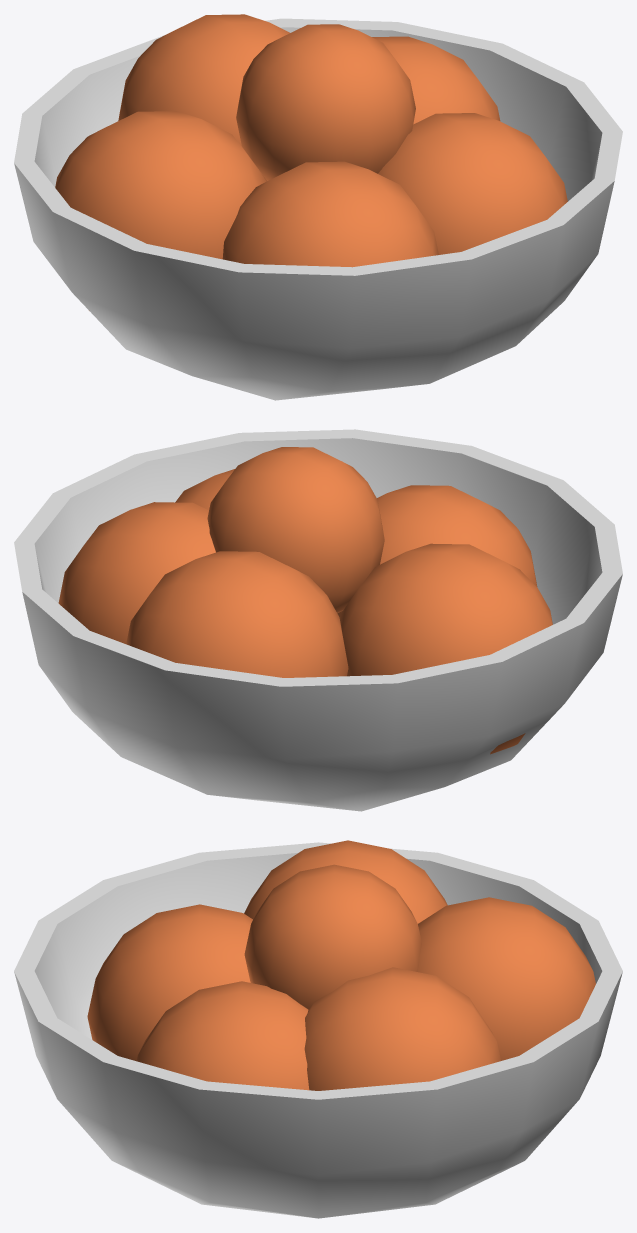
Rendered from Fruitbowl.fbx.
3 views of the same model, one above another, from view 1: azimuth 30°, elevation 25°; view 2: azimuth 150°, elevation 25°; view 3: azimuth 270°, elevation 25° (orthographic).
Parts seen in each view (by area): view 1: Fruitbowl; view 2: Fruitbowl; view 3: Fruitbowl.
Boxes of the visible parts, bbox=[...] form: Fruitbowl: bbox=[14, 14, 622, 400]; Fruitbowl: bbox=[14, 429, 622, 811]; Fruitbowl: bbox=[14, 840, 622, 1218].
Bounding box in the file's own units: 0.5767 × 0.3217 × 0.5767.
